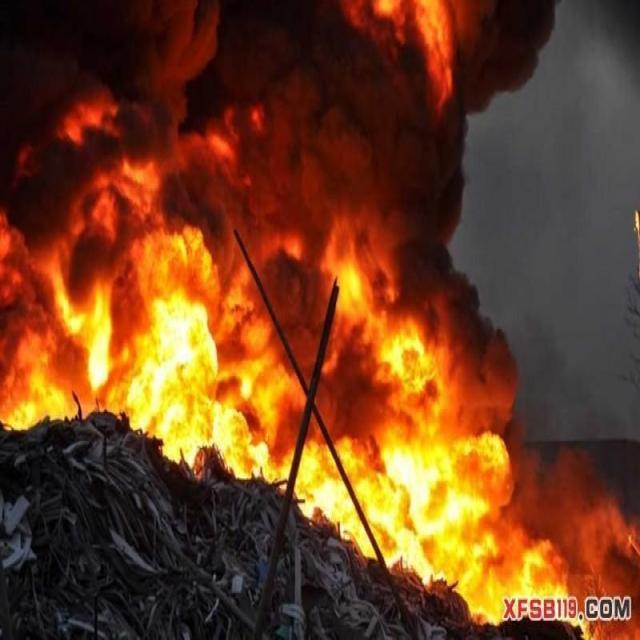Fire: (1, 155, 640, 640), (372, 1, 454, 110)
Smoke: (1, 1, 640, 574)
